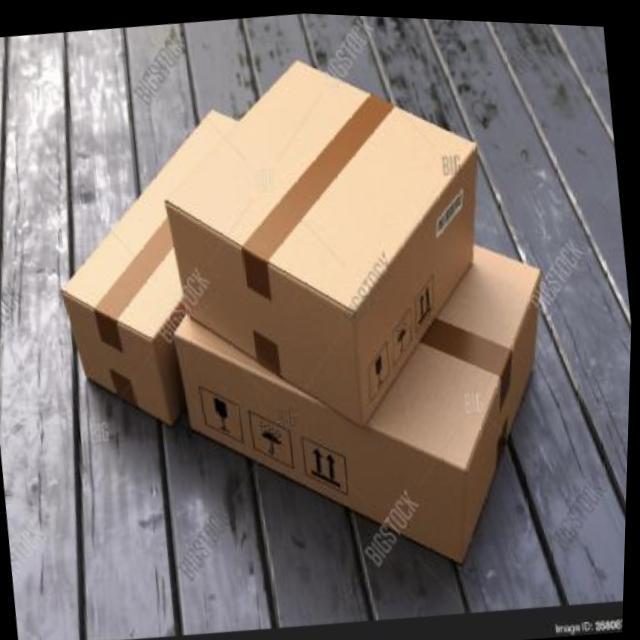box: (25, 53, 586, 621), (138, 23, 525, 461)
